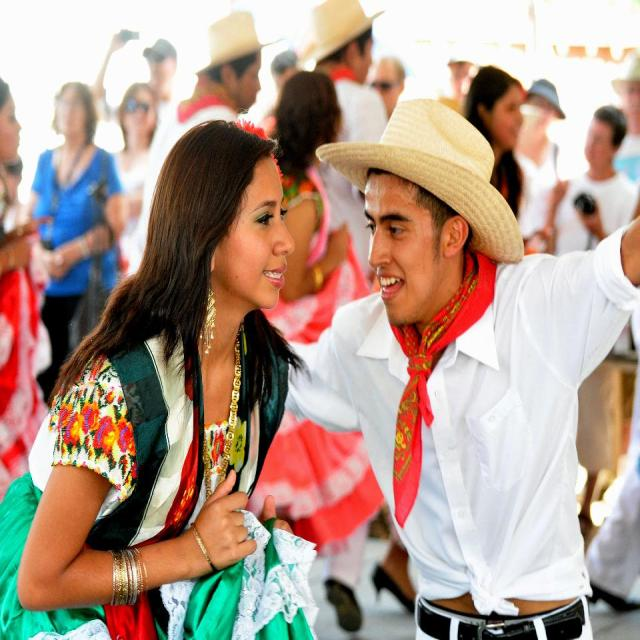Hat: (314, 95, 524, 267), (295, 0, 385, 66), (192, 11, 279, 74), (522, 77, 565, 121), (141, 36, 175, 56)
